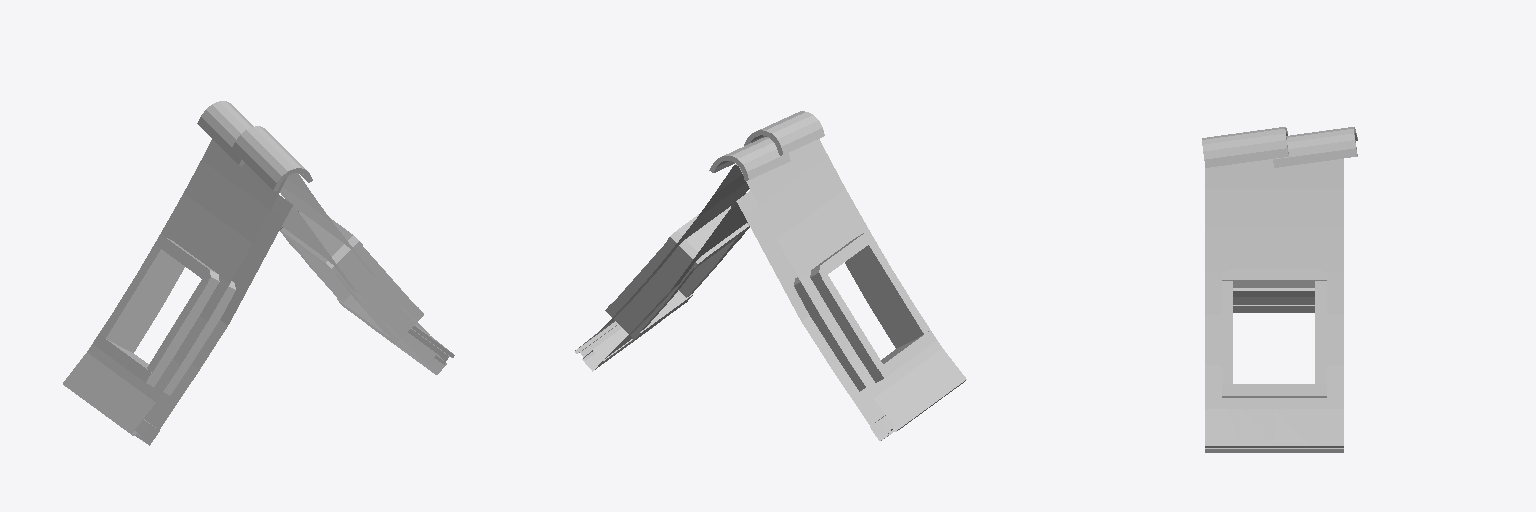
Rendered from Roof_Modular_FlatTiles_4_Dormer.obj.
The picture shows the model from 3 angles: view 1: azimuth 30°, elevation 25°; view 2: azimuth 150°, elevation 25°; view 3: azimuth 270°, elevation 25°; orthographic projection.
Visible parts, largest first — view 1: Roof_Modular_FlatTiles_4_Dormer; view 2: Roof_Modular_FlatTiles_4_Dormer; view 3: Roof_Modular_FlatTiles_4_Dormer.
Part boxes in pixels (x1,y1,x2,y2): Roof_Modular_FlatTiles_4_Dormer: (63,101,454,445); Roof_Modular_FlatTiles_4_Dormer: (575,111,966,440); Roof_Modular_FlatTiles_4_Dormer: (1202,127,1357,452).
Size of the model in its own units: 5.39 by 4.07 by 2.25.